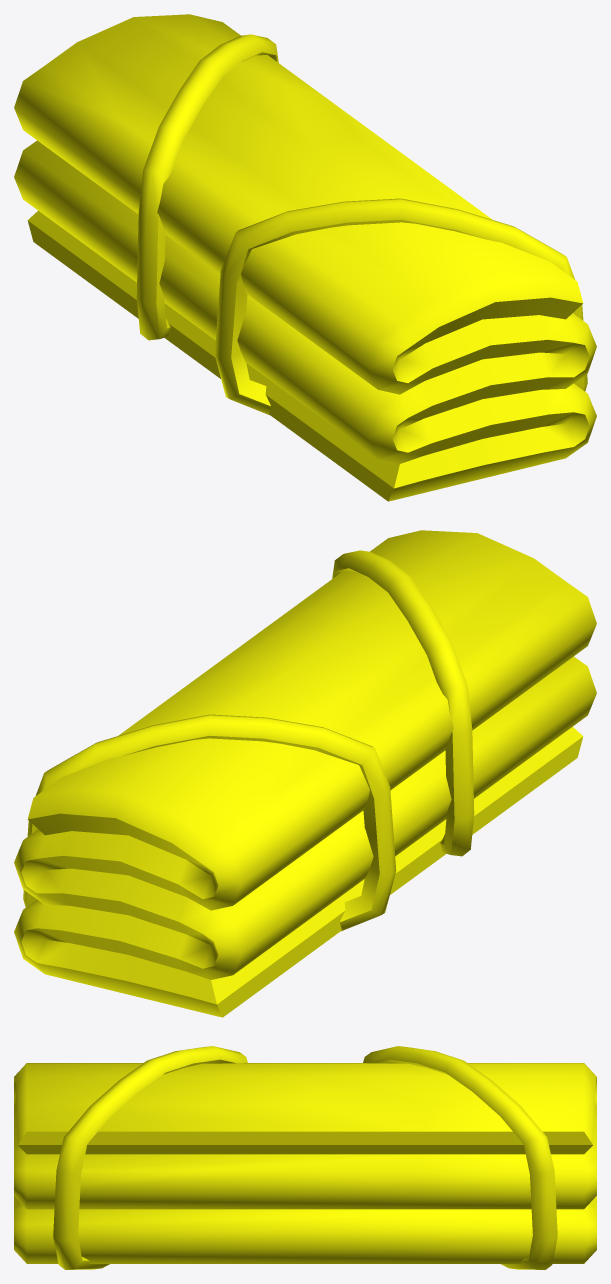
The model's file is kaykit-textiles-c.glb.
3 views of the same model, one above another, from view 1: azimuth 30°, elevation 25°; view 2: azimuth 150°, elevation 25°; view 3: azimuth 270°, elevation 25° (orthographic). The views are drawn at different scales.
Parts seen in each view (by area): view 1: Textiles_C; view 2: Textiles_C; view 3: Textiles_C.
Part boxes in pixels (x1,y1,x2,y2): Textiles_C: (14,14,596,501); Textiles_C: (14,530,596,1017); Textiles_C: (14,1046,596,1269).
Bounding box in the file's own units: 0.6142 × 0.5225 × 1.55.
